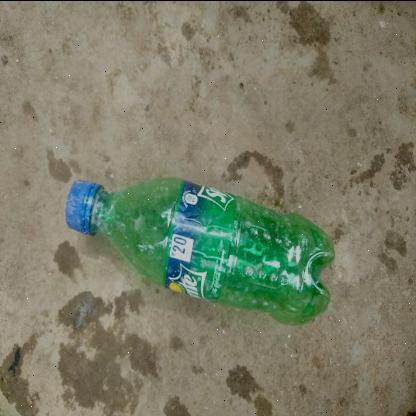Plastic Bottle: (64, 176, 335, 326)
